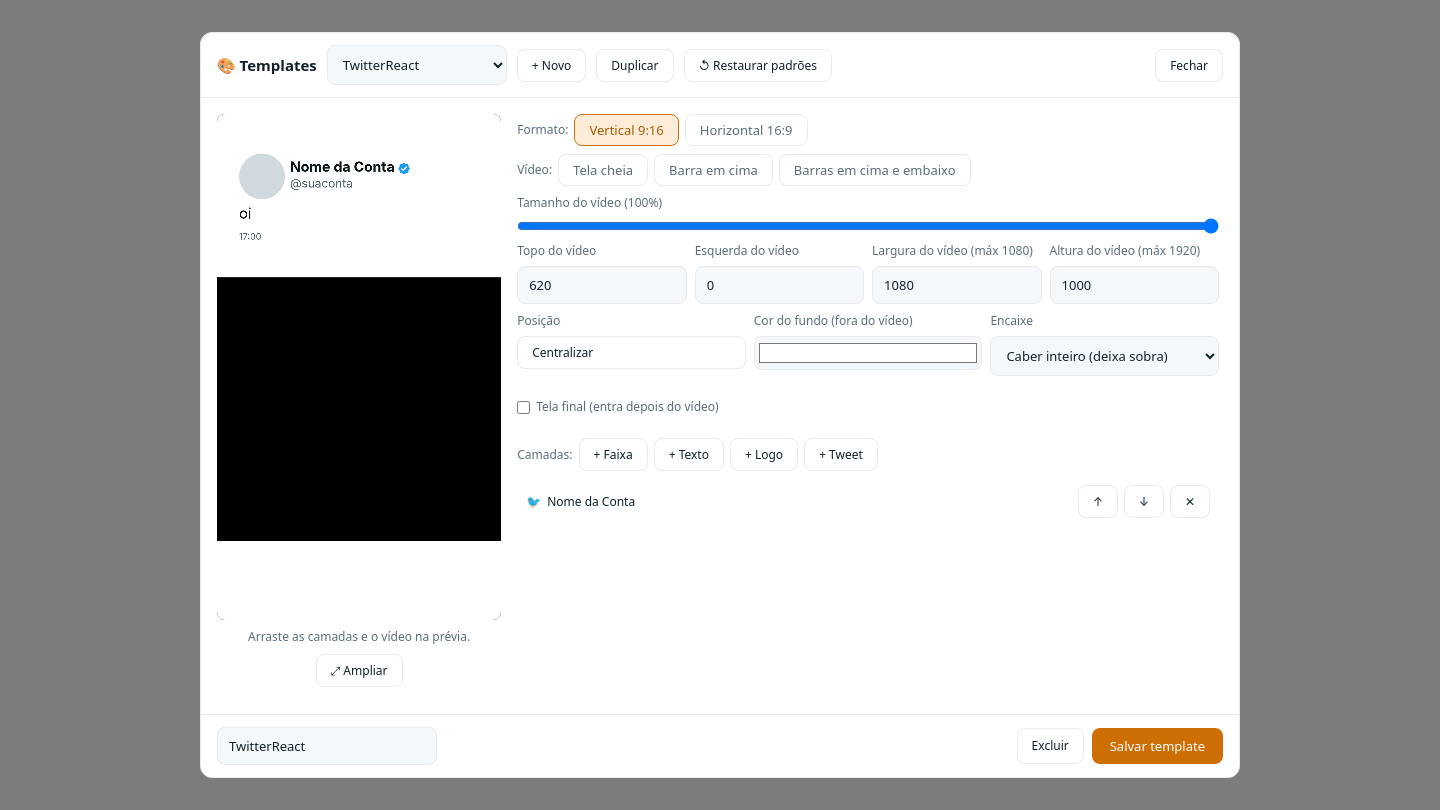
Test: tela final › ligar mostra a tela final na prévia, e o botão volta para o vídeo
Click the checkbox labelled "Tela final (entra depois do vídeo)". click: (524, 407)
box: [517,401,530,414]
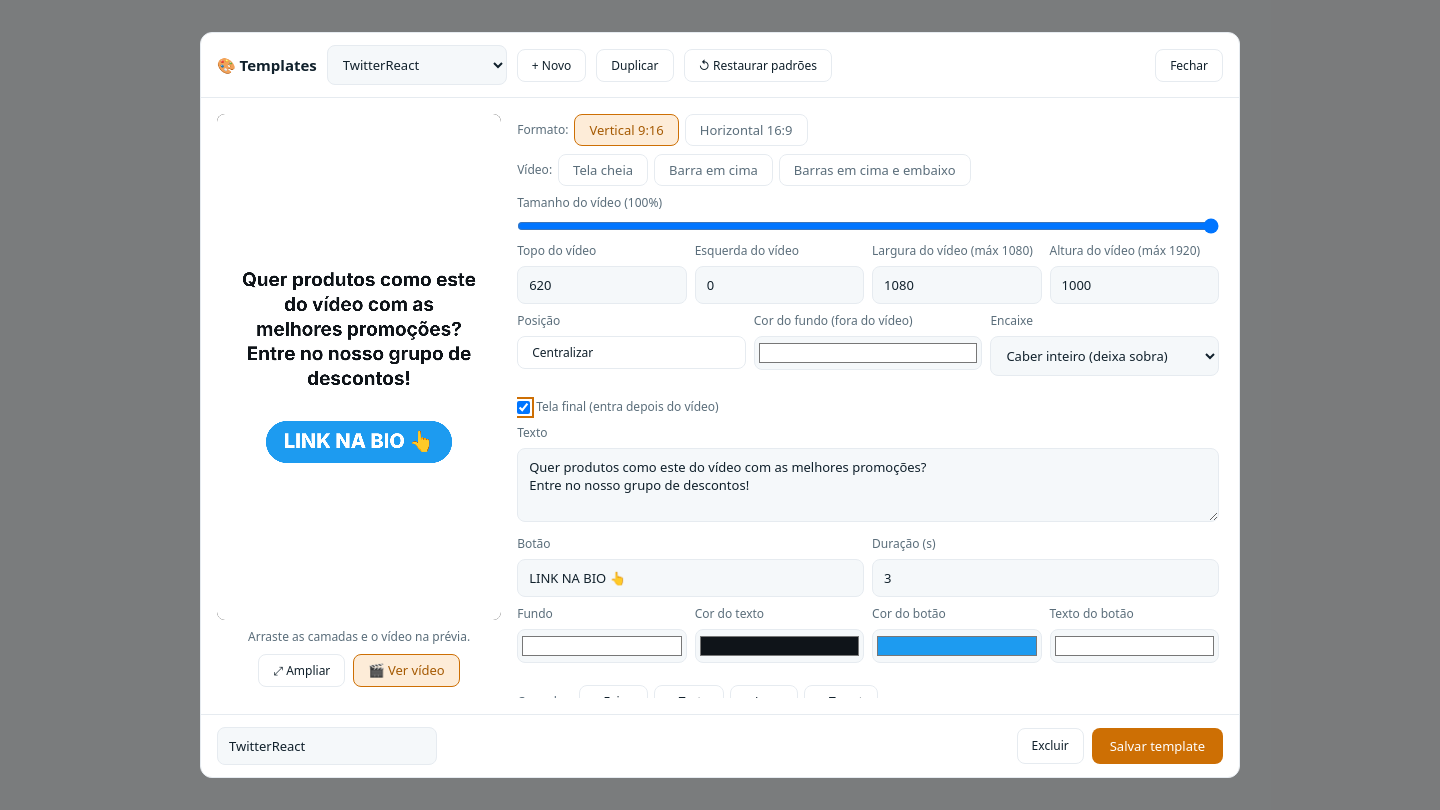
Click the button "🎬 Ver vídeo". click: (406, 670)
box: [353,654,460,687]
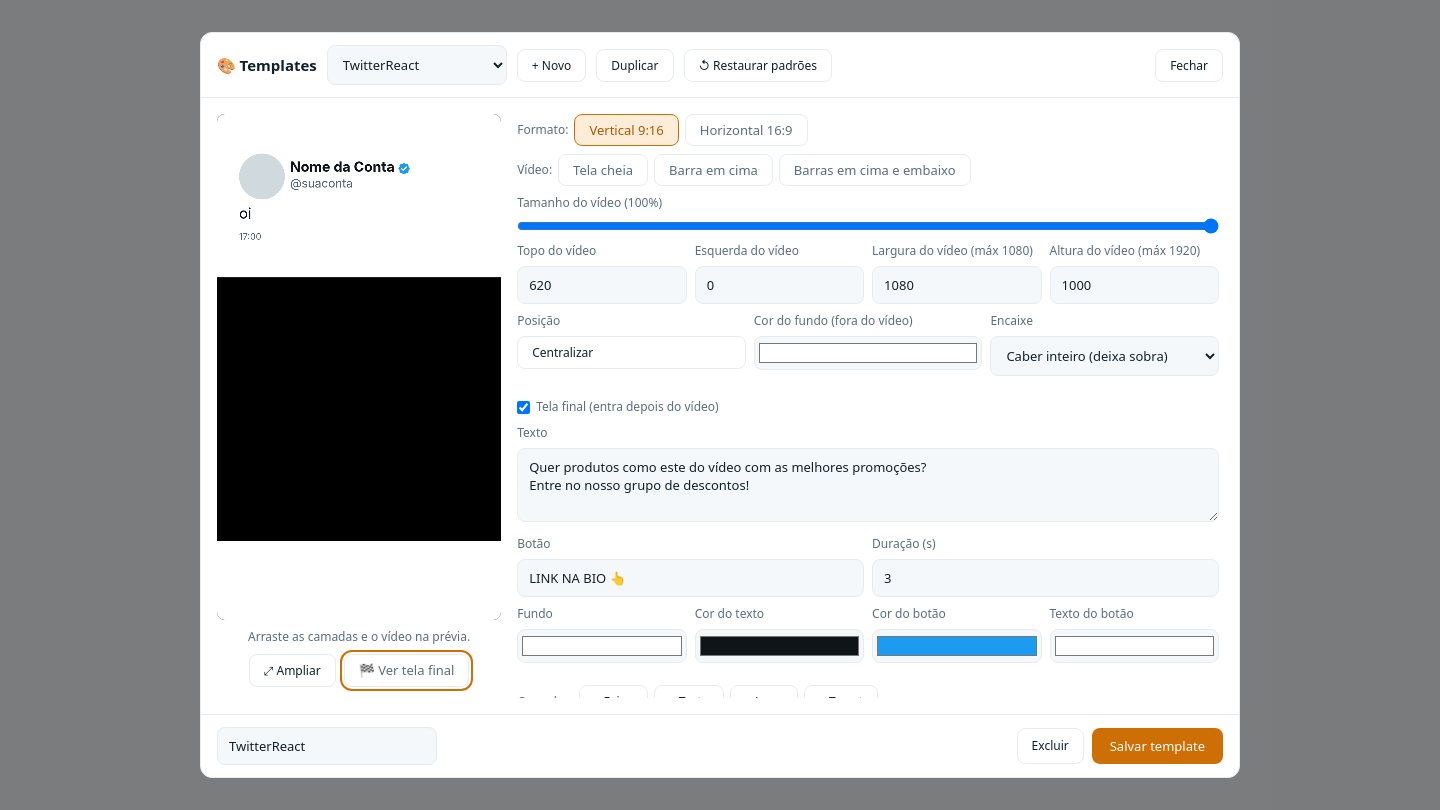
Check: the button "🏁 Ver tela final" is shown, box [344,654,469,687]
